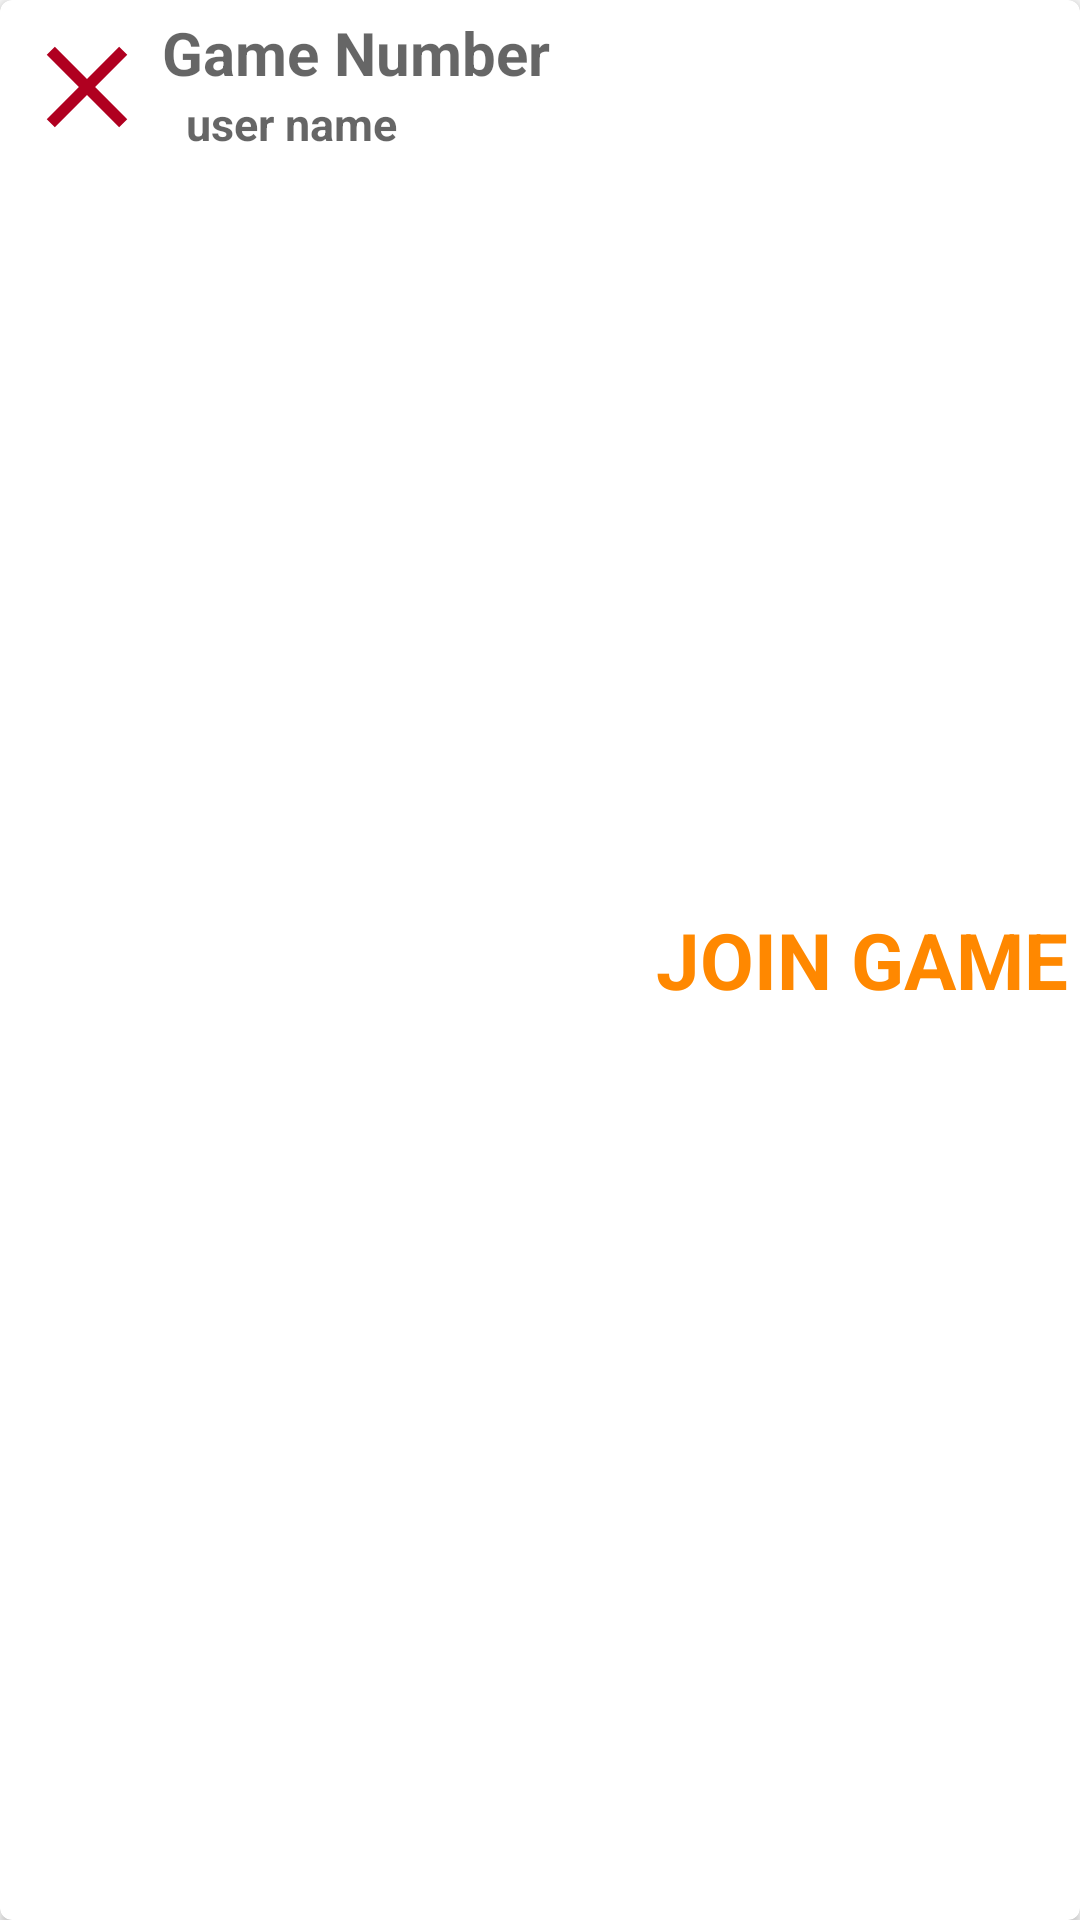

Named icons in this screenshot (1080 × 1920) and their bounding boxes, (x1, y1, x2, y2):
cross: (47, 47, 127, 127)
